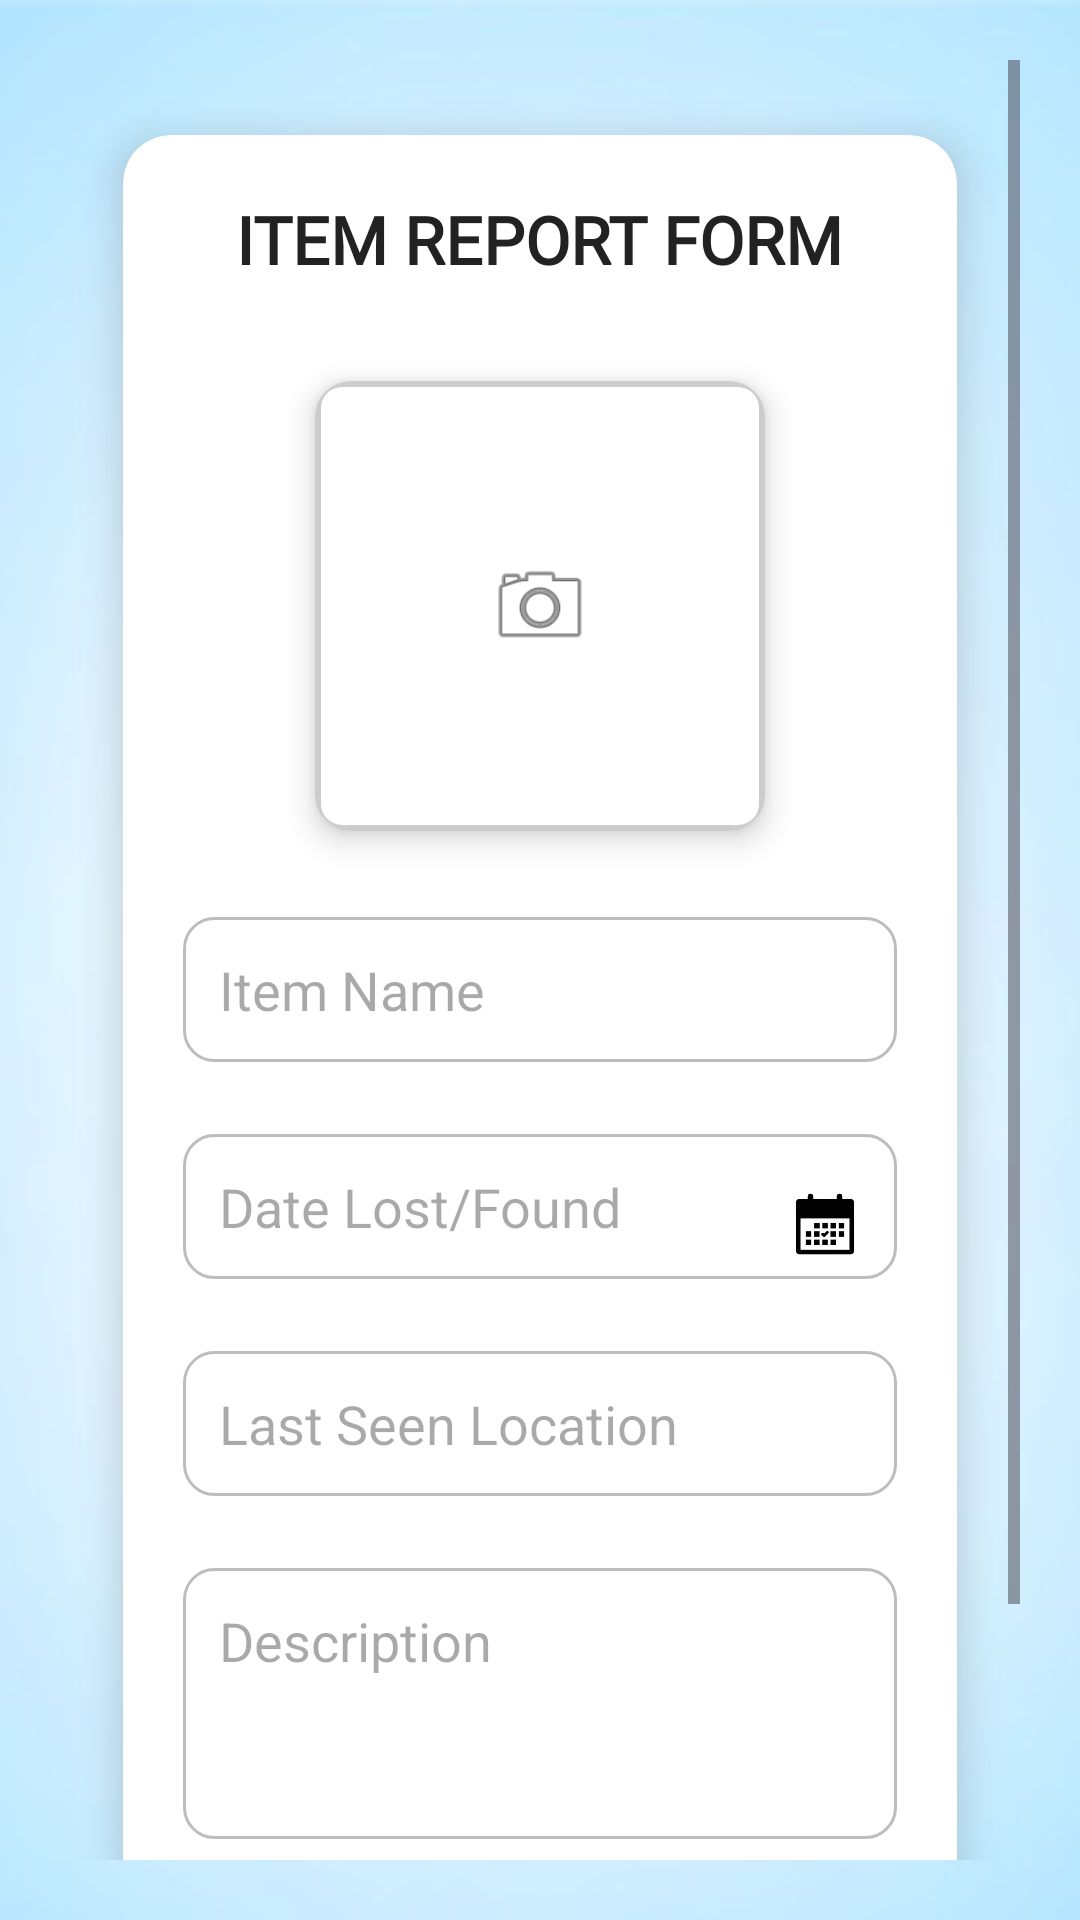

Icons on this 1080 x 1920 Android screen, each with the point to tap as (x,y):
camera: (540,604)
